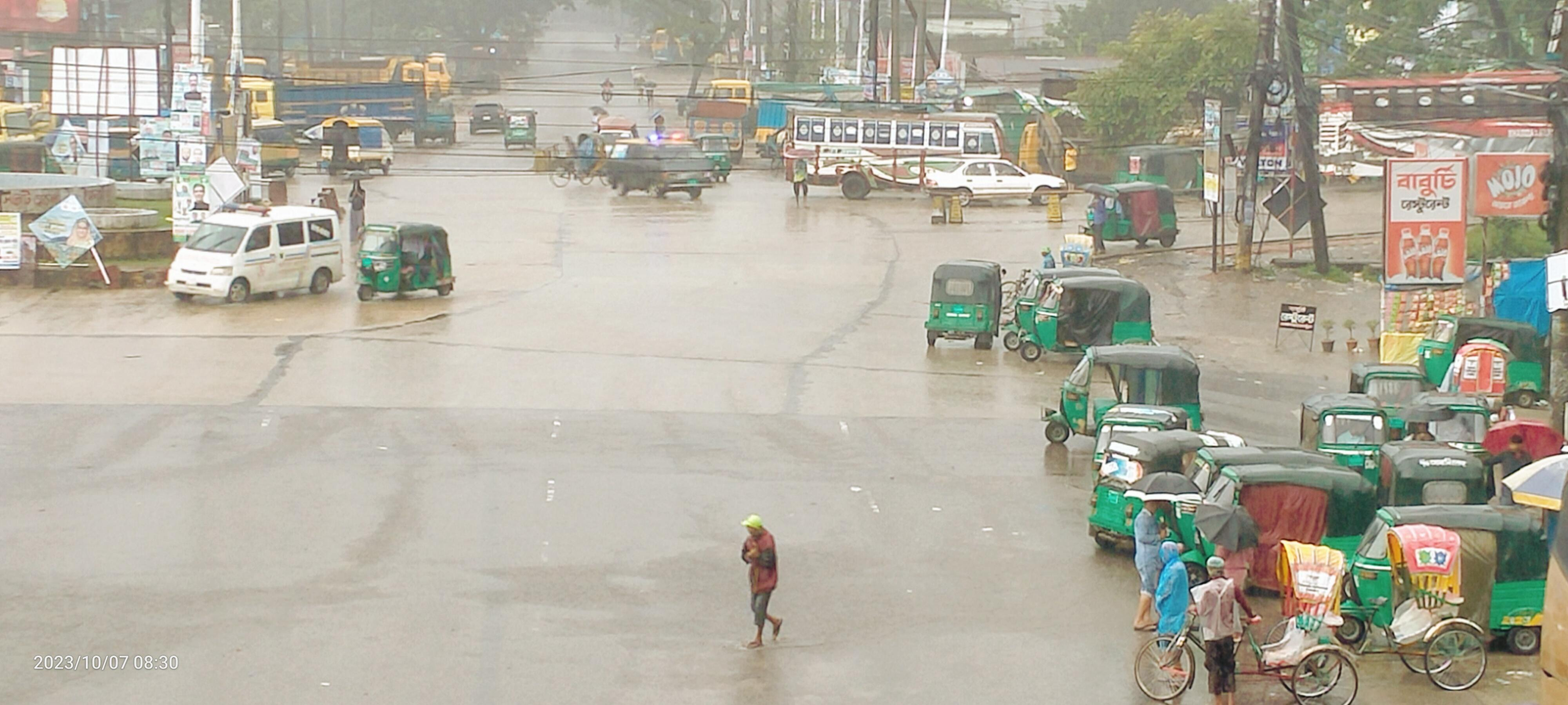Bus: (1242, 45, 1568, 215), (757, 85, 1029, 210)
Car: (1085, 531, 1372, 705), (1320, 512, 1507, 705), (127, 191, 358, 315), (582, 122, 731, 212), (911, 154, 1082, 219), (289, 105, 408, 188)
Truck: (237, 56, 434, 139), (267, 36, 452, 110)
